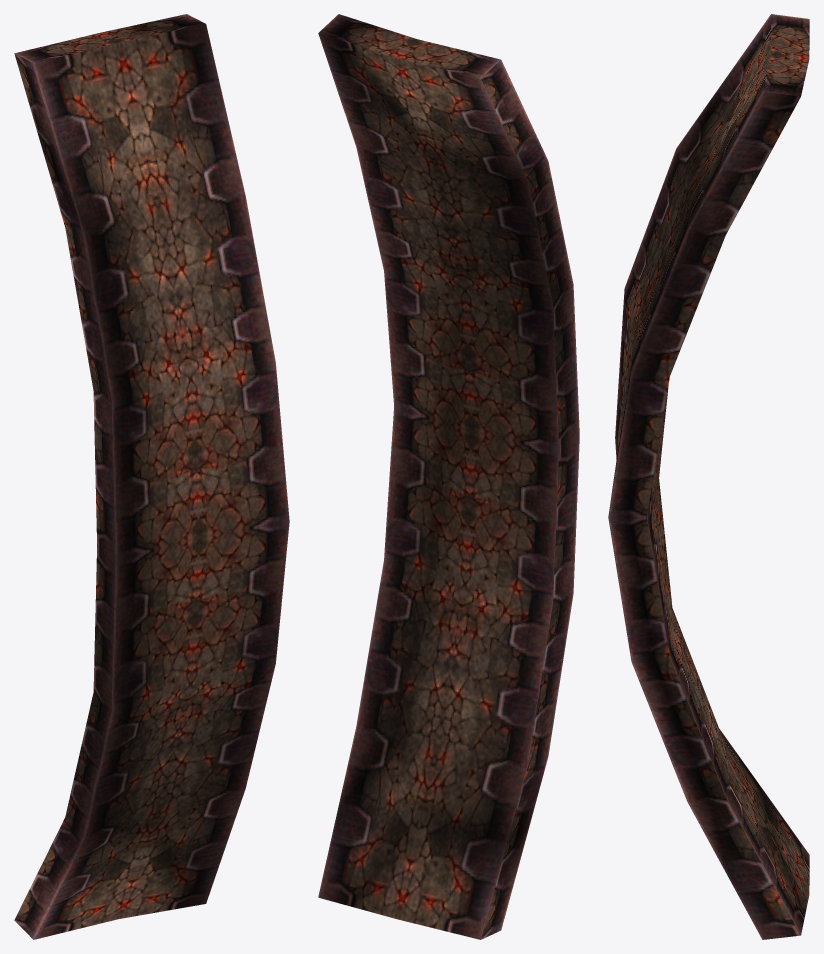
The model's file is bridge_01.obj.
3 views of the same model, side by side, from view 1: azimuth 30°, elevation 25°; view 2: azimuth 150°, elevation 25°; view 3: azimuth 270°, elevation 25° (orthographic). The views are drawn at different scales.
Visible parts, largest first — view 1: (null); view 2: (null); view 3: (null).
Part boxes in pixels (bbox=[...]): (null): bbox=[14, 14, 289, 939]; (null): bbox=[318, 14, 579, 939]; (null): bbox=[608, 14, 809, 939].
Bounding box in the file's own units: 1.98 × 9.64 × 2.07.
